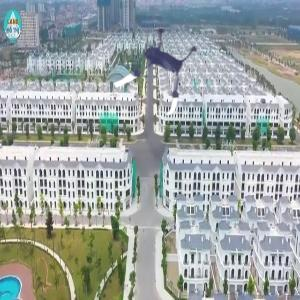drone: (107, 17, 210, 120)
